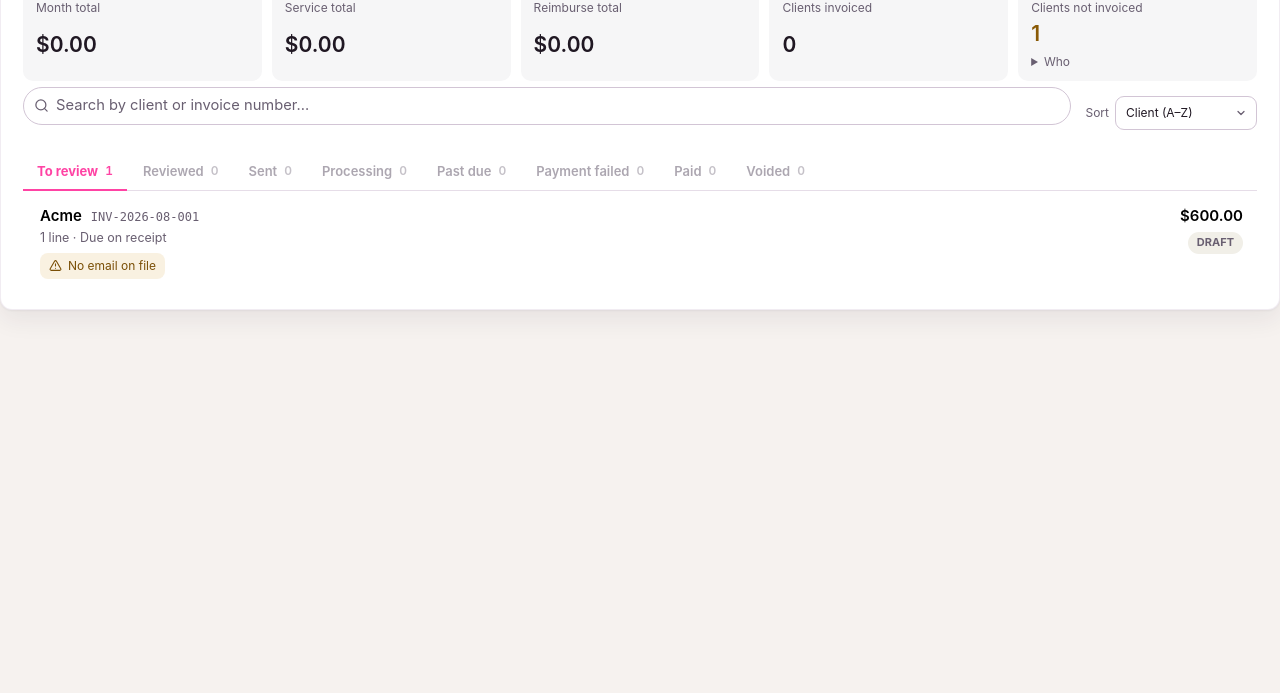
Test: InvoiceMonthRun — the retainer credit › adds the credit as a line and moves the running total to match
Click the text "INV-2026-08-001".
click(145, 218)  # box [91,209,199,227]
(page scrolled)
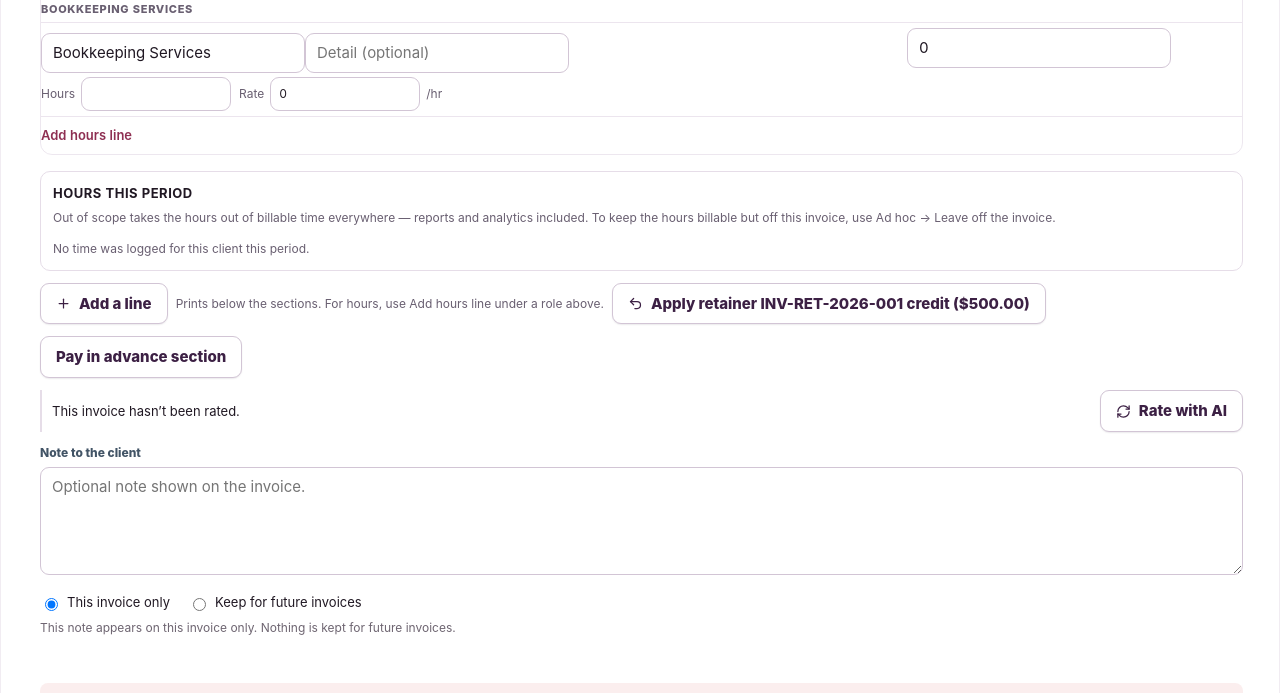
Expected: the button "Apply retainer INV-RET-2026-001 credit ($500.00)" is shown
Click the button "Apply retainer INV-RET-2026-001 credit ($500.00)".
click(829, 304)  # box [612,283,1046,324]
(page scrolled)
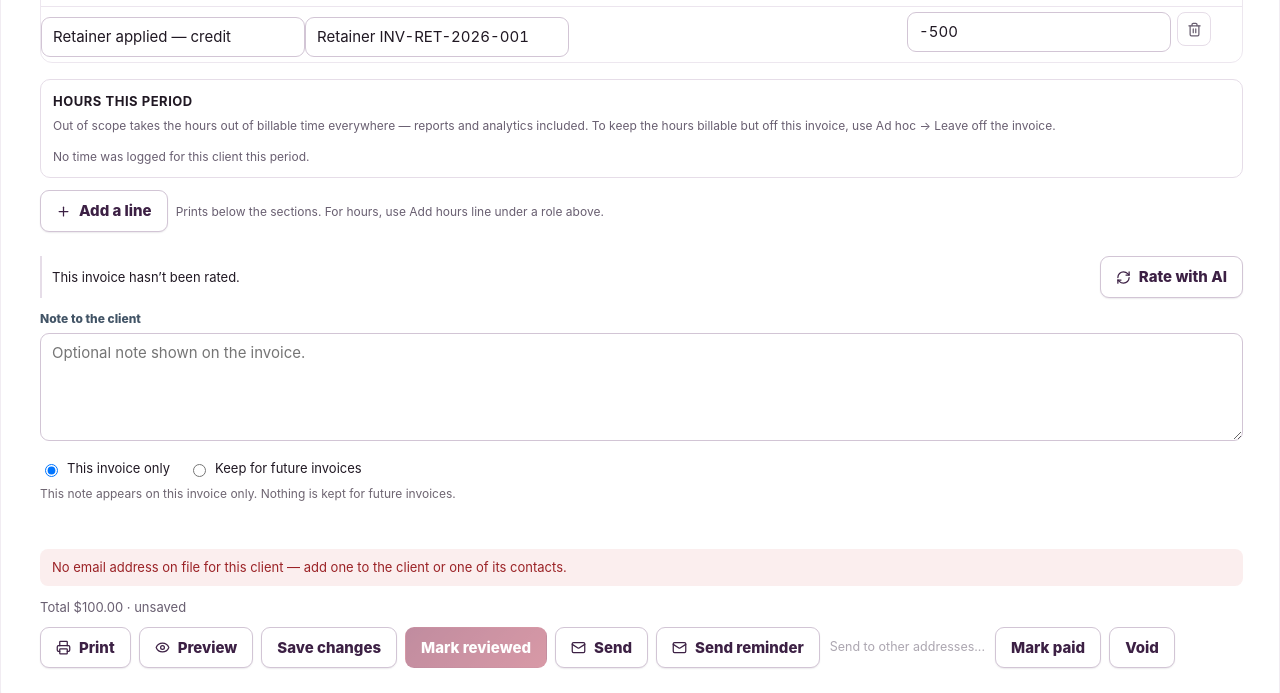
Expected: the field showing "Retainer applied — credit" is shown, [41,17,305,57]
Expected: the text "Total $100.00 · unsaved" is shown, [40,598,186,617]
Expected: the button "Apply retainer" is gone
